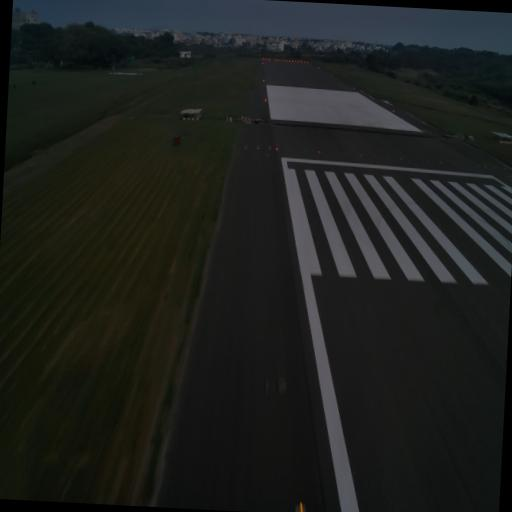on: (295, 499, 308, 512)
